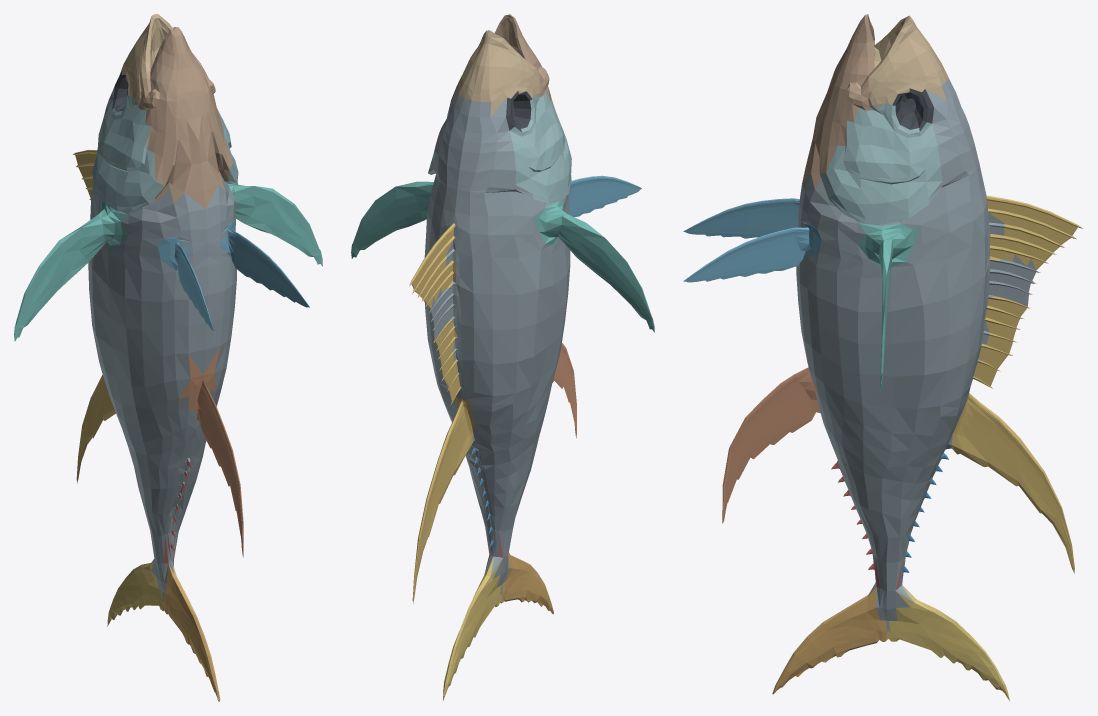
File: YELLOWFIN_SOURCE_COPY_R001.glb
3 renders of one model, left to right at view 1: azimuth 30°, elevation 25°; view 2: azimuth 150°, elevation 25°; view 3: azimuth 270°, elevation 25°, orthographic. The views are drawn at different scales.
Parts seen in each view (by area): view 1: source_copy_body_core, source_copy_lower_jaw, source_copy_pectoral_fin, source_copy_operculum_candidate, source_copy_pelvic_fin, source_copy_anal_fin, source_copy_caudal_lower, source_copy_upper_jaw, source_copy_dorsal_fin, source_copy_caudal_upper; view 2: source_copy_body_core, source_copy_pectoral_fin, source_copy_dorsal_fin, source_copy_operculum_candidate, source_copy_upper_jaw, source_copy_caudal_upper, source_copy_pelvic_fin, source_copy_caudal_lower, source_copy_lower_jaw, source_copy_anal_fin, source_copy_eye; view 3: source_copy_body_core, source_copy_dorsal_fin, source_copy_operculum_candidate, source_copy_pelvic_fin, source_copy_lower_jaw, source_copy_anal_fin, source_copy_upper_jaw, source_copy_caudal_upper, source_copy_caudal_lower, source_copy_pectoral_fin, source_copy_eye.
Part boxes in pixels (bbox=[...]): source_copy_body_core: bbox=[88, 74, 236, 601]; source_copy_lower_jaw: bbox=[137, 27, 232, 208]; source_copy_pectoral_fin: bbox=[14, 184, 322, 340]; source_copy_operculum_candidate: bbox=[92, 95, 238, 211]; source_copy_pelvic_fin: bbox=[158, 222, 309, 330]; source_copy_anal_fin: bbox=[179, 346, 243, 557]; source_copy_caudal_lower: bbox=[164, 563, 220, 701]; source_copy_upper_jaw: bbox=[119, 14, 203, 103]; source_copy_dorsal_fin: bbox=[73, 150, 115, 483]; source_copy_caudal_upper: bbox=[107, 560, 164, 626]; source_copy_body_core: bbox=[424, 86, 570, 594]; source_copy_pectoral_fin: bbox=[351, 181, 654, 332]; source_copy_dorsal_fin: bbox=[409, 223, 475, 603]; source_copy_operculum_candidate: bbox=[429, 90, 571, 203]; source_copy_upper_jaw: bbox=[454, 30, 541, 116]; source_copy_caudal_upper: bbox=[443, 558, 502, 700]; source_copy_pelvic_fin: bbox=[569, 175, 641, 216]; source_copy_caudal_lower: bbox=[500, 552, 553, 614]; source_copy_lower_jaw: bbox=[495, 14, 564, 134]; source_copy_anal_fin: bbox=[552, 343, 576, 438]; source_copy_eye: bbox=[448, 85, 532, 131]; source_copy_body_core: bbox=[796, 78, 1042, 631]; source_copy_dorsal_fin: bbox=[951, 195, 1082, 573]; source_copy_operculum_candidate: bbox=[820, 103, 942, 224]; source_copy_pelvic_fin: bbox=[683, 198, 821, 282]; source_copy_lower_jaw: bbox=[802, 14, 874, 188]; source_copy_anal_fin: bbox=[722, 345, 820, 523]; source_copy_upper_jaw: bbox=[868, 15, 948, 109]; source_copy_caudal_upper: bbox=[885, 586, 1009, 700]; source_copy_caudal_lower: bbox=[772, 587, 886, 694]; source_copy_pectoral_fin: bbox=[857, 223, 920, 391]; source_copy_eye: bbox=[892, 88, 933, 131].
Size of the model in its own units: 1.49 by 3 by 1.59.
